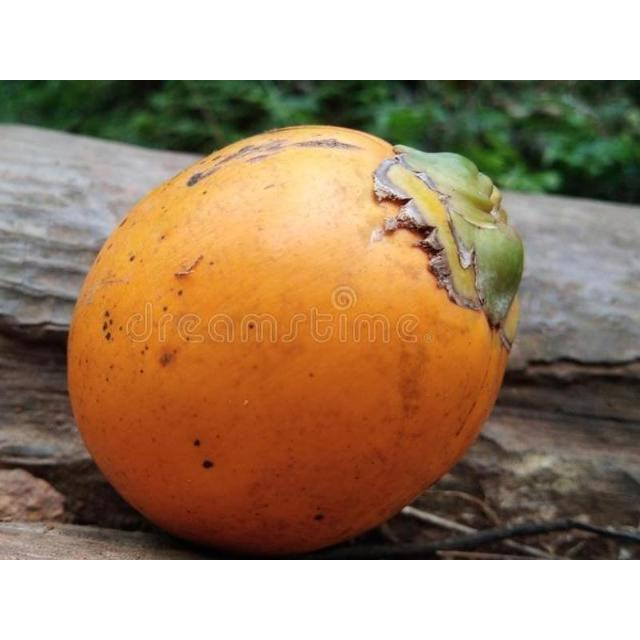good: (66, 126, 526, 559)
